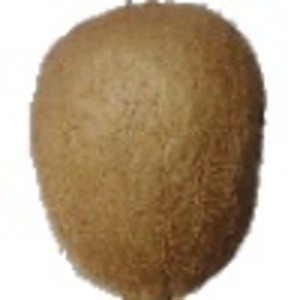kiwi: (27, 1, 268, 300)
